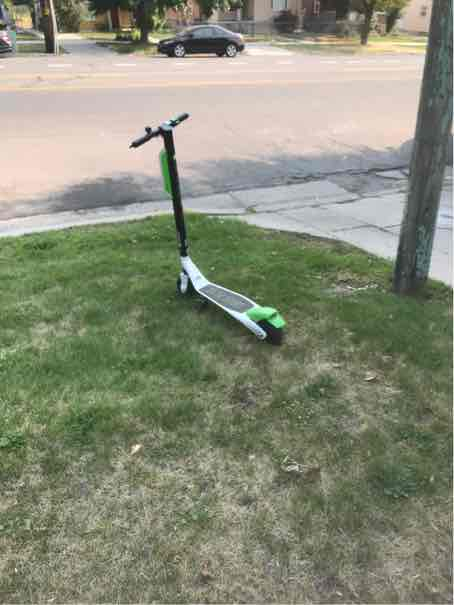scooter: (119, 99, 288, 367)
